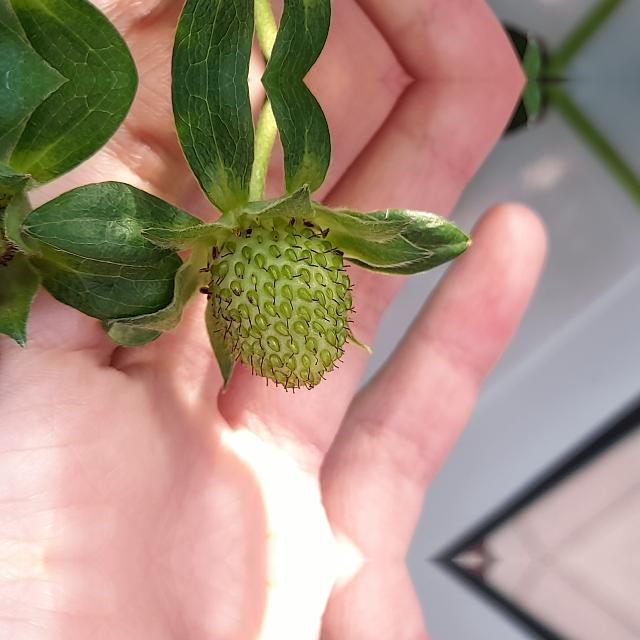Health_25: (208, 218, 356, 392)
